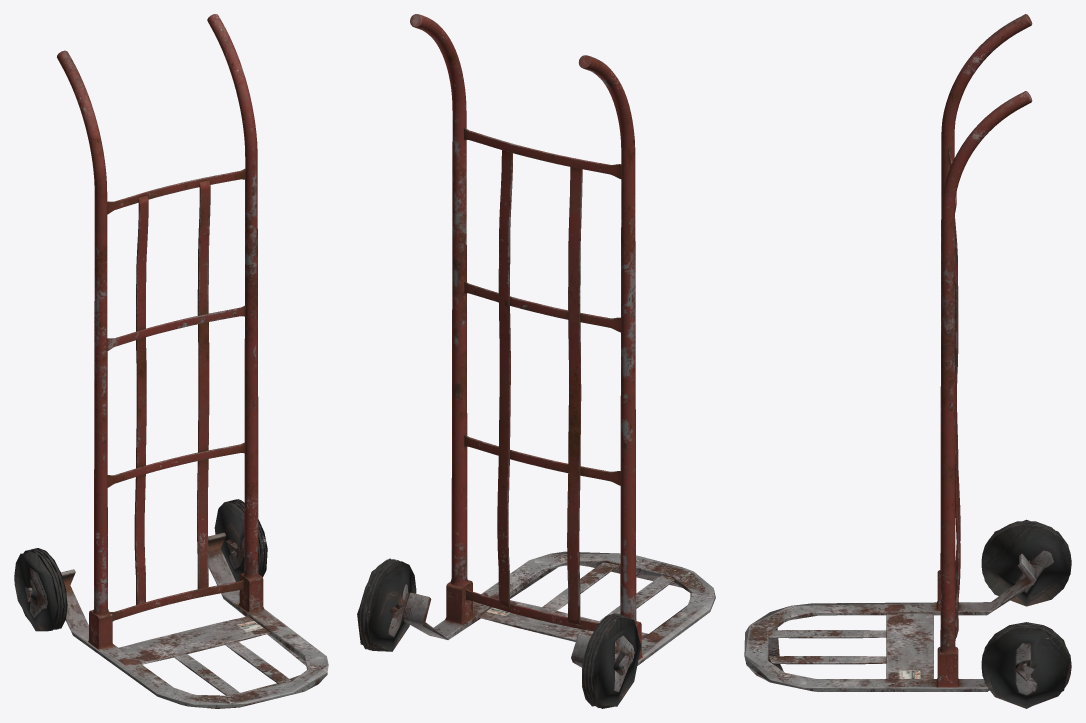
Rendered from hand_truck.glb.
3 renders of one model, left to right at view 1: azimuth 30°, elevation 25°; view 2: azimuth 150°, elevation 25°; view 3: azimuth 270°, elevation 25°, orthographic. The views are drawn at different scales.
Visible parts, largest first — view 1: hand_truck; view 2: hand_truck; view 3: hand_truck.
Part boxes in pixels (x1=…): hand_truck: x1=14, y1=14, x2=328, y2=708; hand_truck: x1=357, y1=14, x2=715, y2=708; hand_truck: x1=744, y1=14, x2=1071, y2=708.
Bounding box in the file's own units: 0.5789 × 1.4 × 0.6922.
1 material, 1 textured.
